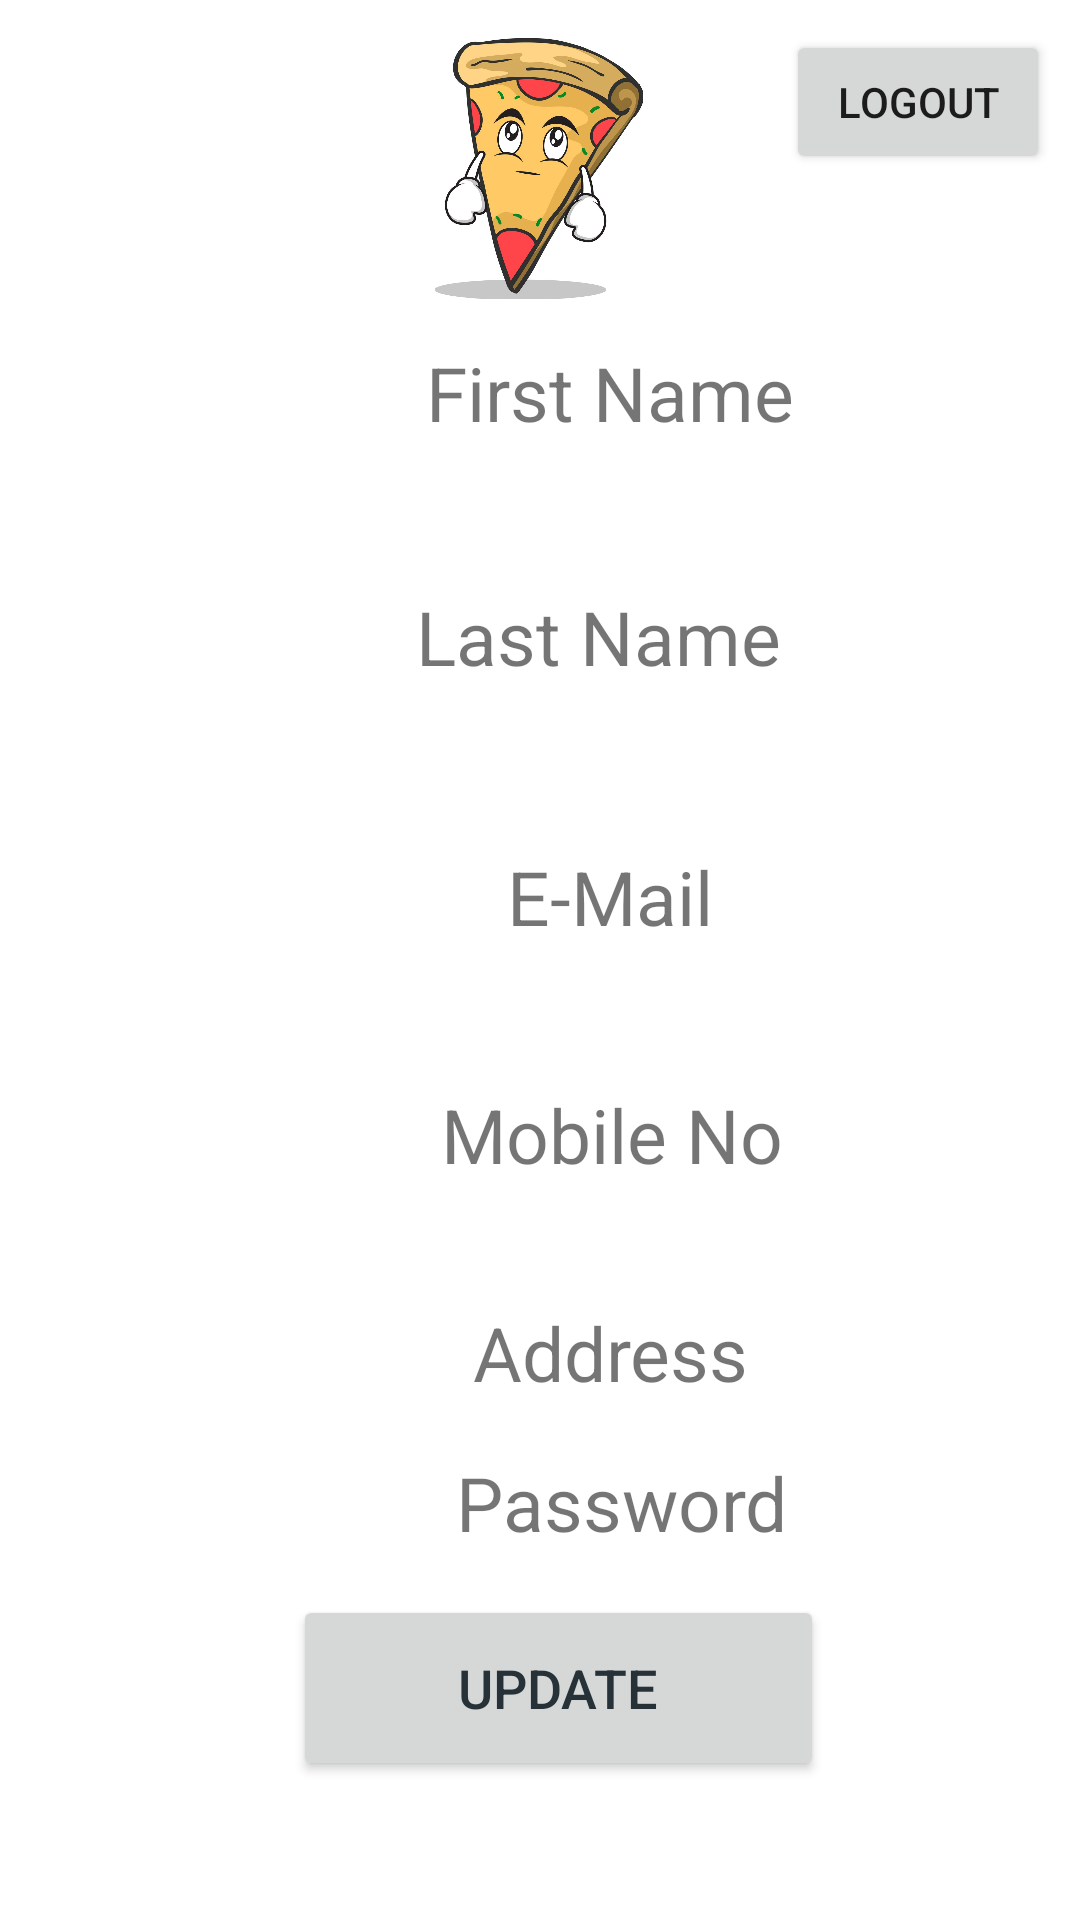

Screen size 1080w x 1920h. Icon name, then its box in pixels as region(x1, y1, x2, y2):
foodshowprofile: region(435, 38, 643, 299)
